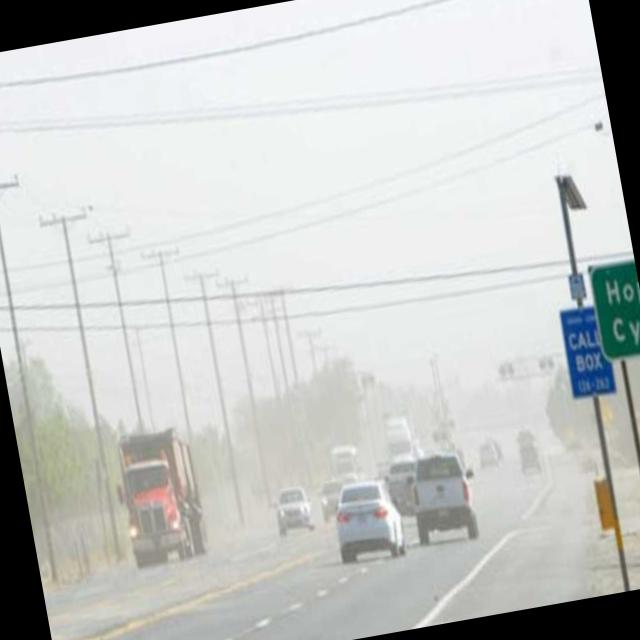car: (403, 448, 480, 548), (329, 479, 409, 567), (270, 484, 315, 536), (384, 460, 422, 521), (316, 482, 346, 522), (475, 441, 501, 472)
